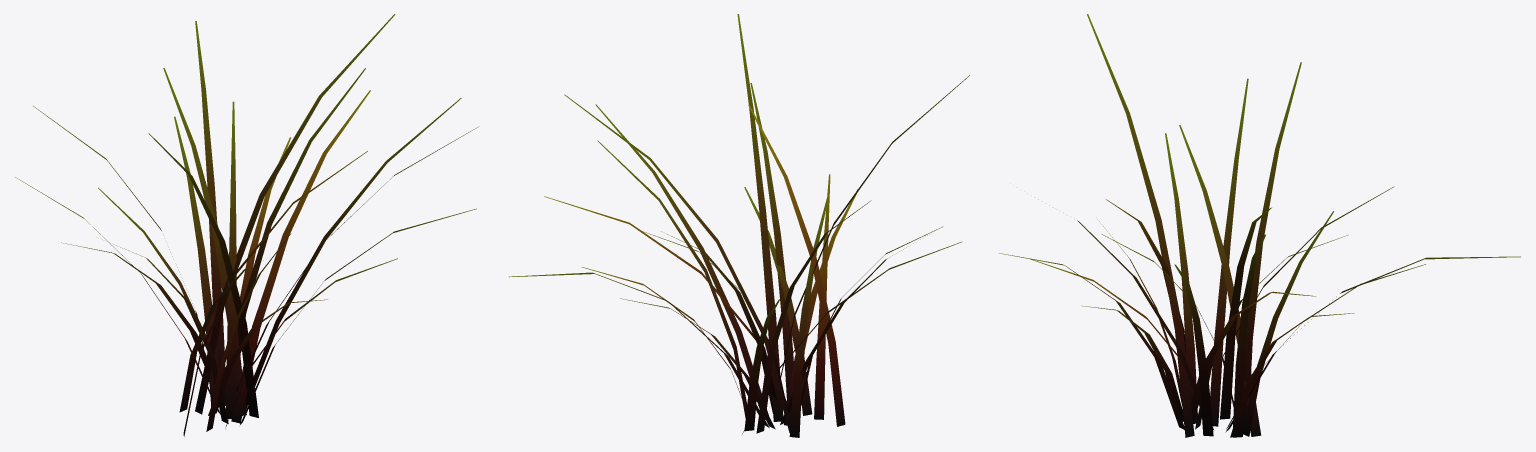
File: tall_grass_a.glb
The picture shows the model from 3 angles, left to right: view 1: azimuth 30°, elevation 25°; view 2: azimuth 150°, elevation 25°; view 3: azimuth 270°, elevation 25°; orthographic projection. The views are drawn at different scales.
Parts seen in each view (by area): view 1: tall_grass_a; view 2: tall_grass_a; view 3: tall_grass_a.
Part boxes in pixels (box(x1,y1,x2,y2)): tall_grass_a: box(15, 14, 478, 436); tall_grass_a: box(508, 14, 969, 437); tall_grass_a: box(999, 14, 1520, 437).
Size of the model in its own units: 1.07 by 0.9042 by 1.23.
1 material, 1 textured.
